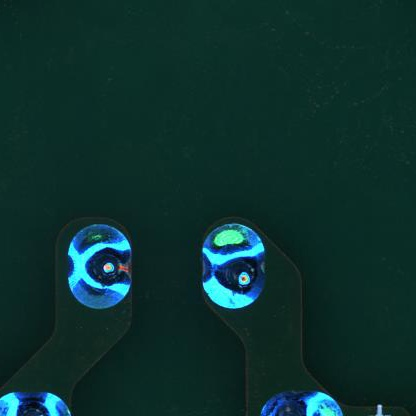spot: (196, 215, 274, 317), (63, 220, 135, 314)
